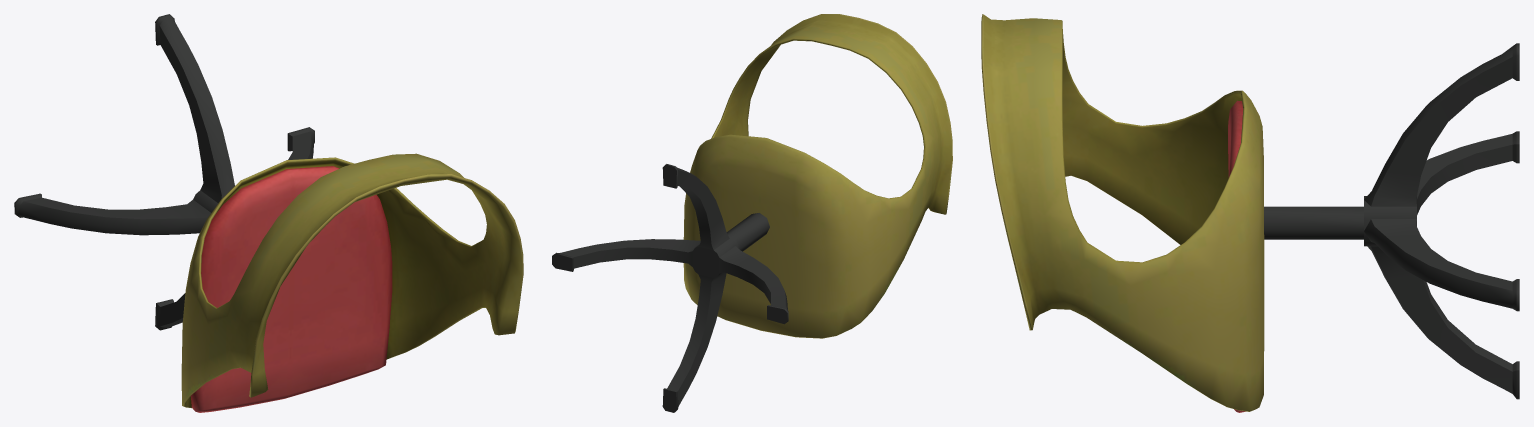
File: nt_2020_yellow_chair_LOD0.obj
The picture shows the model from 3 angles, left to right: view 1: azimuth 30°, elevation 25°; view 2: azimuth 150°, elevation 25°; view 3: azimuth 270°, elevation 25°; orthographic projection. The views are drawn at different scales.
Visible parts, largest first — view 1: mtl_nt_2020_yellow_chair, mtl_nt_2020_yellow_chair_cushion, nt_2020_metal_stainless; view 2: mtl_nt_2020_yellow_chair, nt_2020_metal_stainless; view 3: mtl_nt_2020_yellow_chair, nt_2020_metal_stainless, mtl_nt_2020_yellow_chair_cushion.
Part boxes in pixels (box(x1,y1,x2,y2)): mtl_nt_2020_yellow_chair: box(181, 153, 523, 408); mtl_nt_2020_yellow_chair_cushion: box(190, 166, 392, 412); nt_2020_metal_stainless: box(14, 14, 314, 330); mtl_nt_2020_yellow_chair: box(683, 14, 952, 338); nt_2020_metal_stainless: box(552, 164, 788, 412); mtl_nt_2020_yellow_chair: box(981, 14, 1264, 411); nt_2020_metal_stainless: box(1264, 43, 1519, 399); mtl_nt_2020_yellow_chair_cushion: box(1228, 100, 1245, 412).
Bounding box in the file's own units: 62.26 × 64.55 × 86.66.
